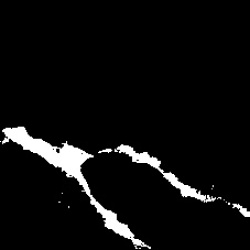crack: (4, 127, 243, 245)
